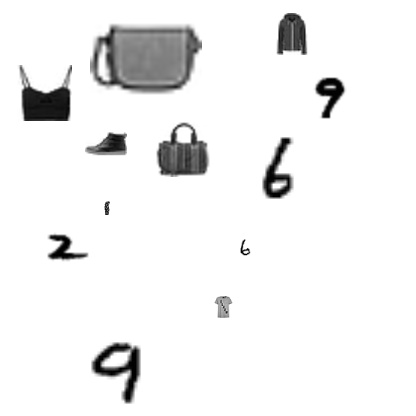2: (34, 221, 90, 277)
6: (233, 129, 317, 213), (233, 238, 255, 260)
9: (77, 325, 161, 409), (302, 64, 358, 120)
Bag: (90, 1, 202, 113), (155, 121, 211, 177)
Coat: (271, 13, 313, 55)
Dress: (100, 201, 114, 215)
Sneaker: (85, 122, 127, 164)
T-shirt/top: (16, 65, 72, 121), (212, 296, 234, 318)
